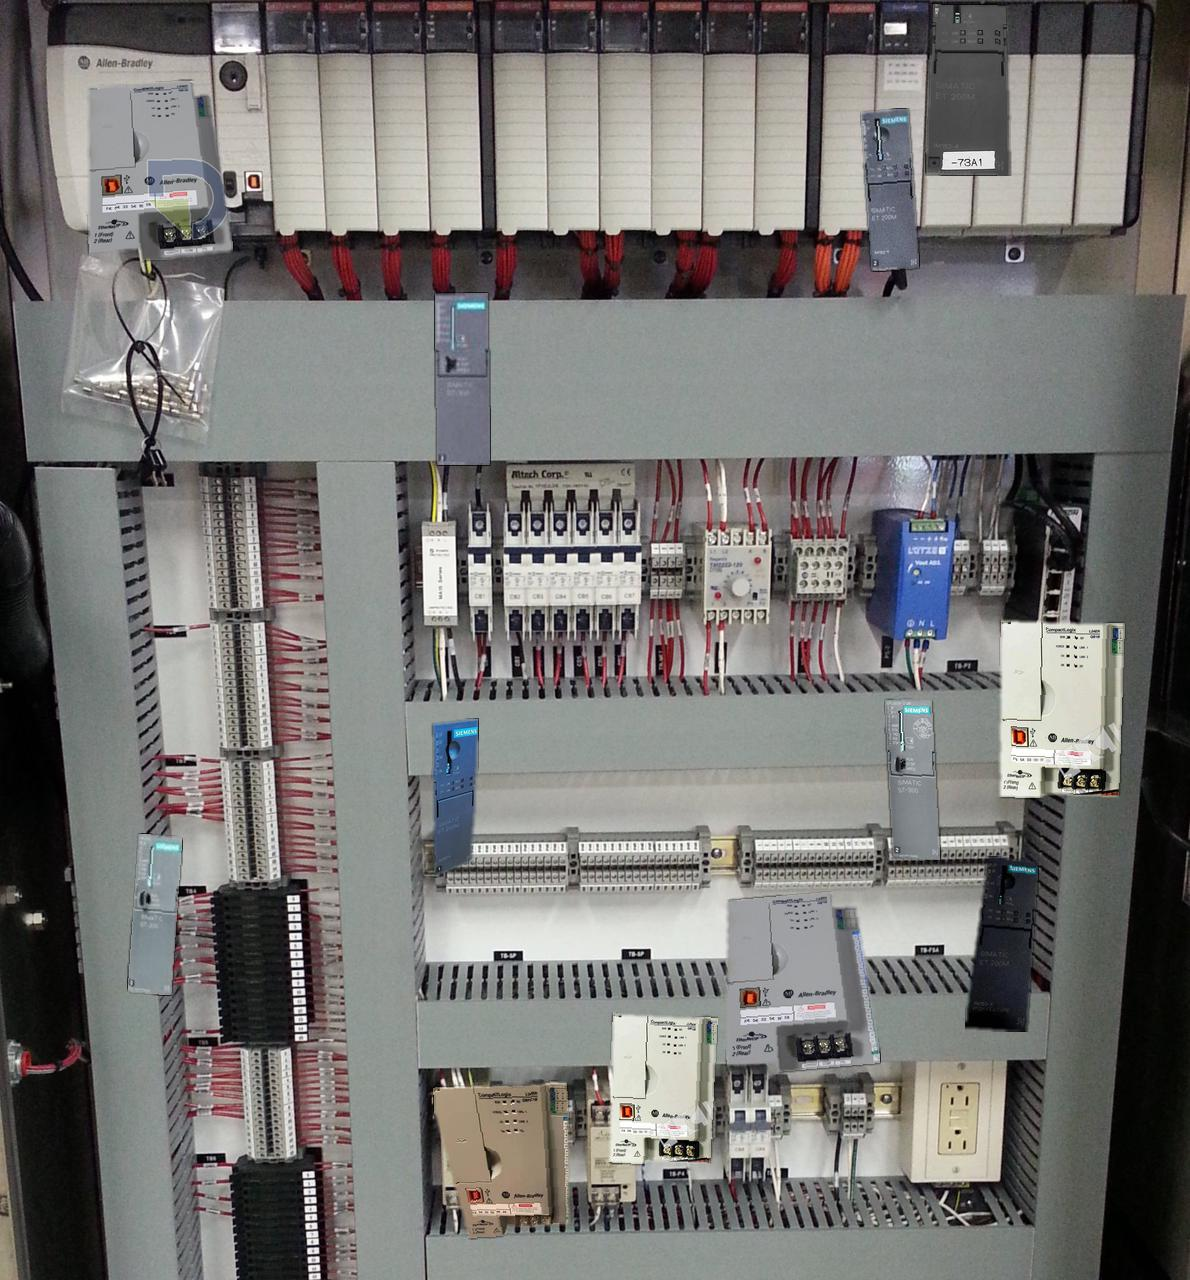AllenBradley: (726, 893, 879, 1071), (88, 80, 232, 260), (1000, 622, 1123, 797), (433, 1082, 568, 1238), (610, 1014, 716, 1163)
Siemens: (435, 293, 489, 464), (127, 834, 181, 994), (886, 700, 939, 859)
